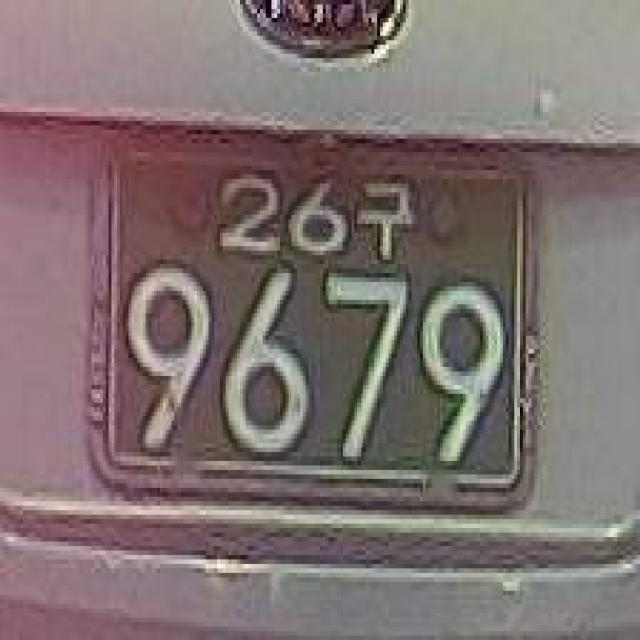illegal_plate: (79, 94, 550, 553)
